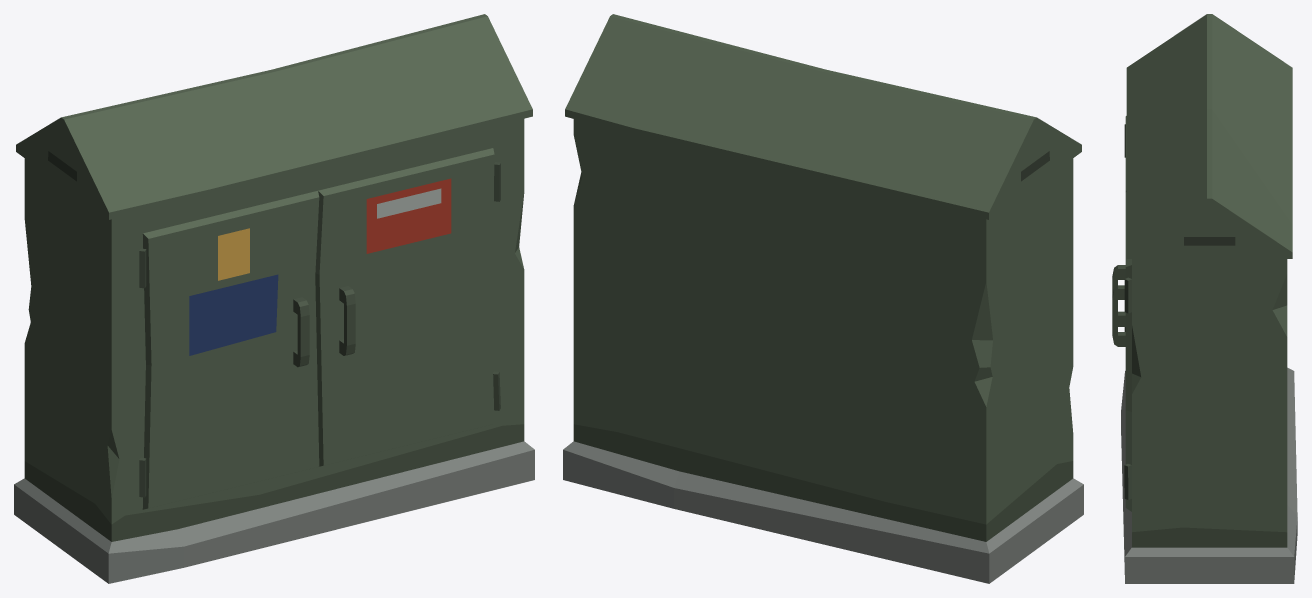
The model's file is power_box.glb.
3 renders of one model, left to right at view 1: azimuth 30°, elevation 25°; view 2: azimuth 150°, elevation 25°; view 3: azimuth 270°, elevation 25°, orthographic. The views are drawn at different scales.
Visible parts, largest first — view 1: SM_Prop_PowerBox_01; view 2: SM_Prop_PowerBox_01; view 3: SM_Prop_PowerBox_01.
Part boxes in pixels (left/top/right/bottom): SM_Prop_PowerBox_01: left=14, top=14, right=534, bottom=583; SM_Prop_PowerBox_01: left=563, top=14, right=1083, bottom=583; SM_Prop_PowerBox_01: left=1112, top=14, right=1297, bottom=583.
Size of the model in its own units: 1.97 by 1.9 by 0.8304.
Materials: 1 (1 with a texture image).
